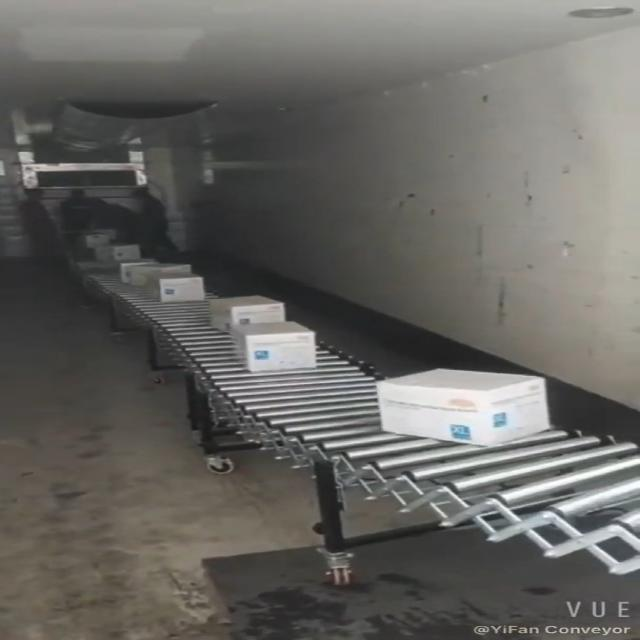Convoyeur: (61, 244, 640, 577)
